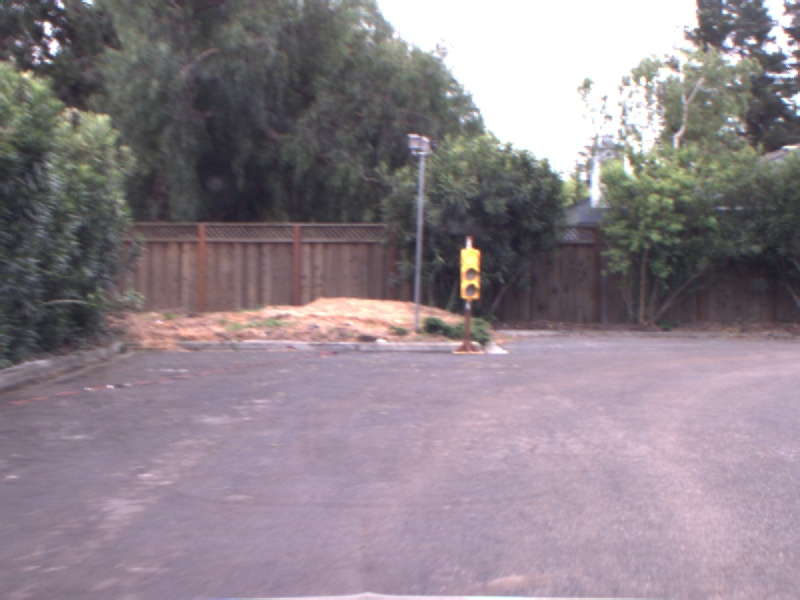red: (458, 246, 484, 305)
